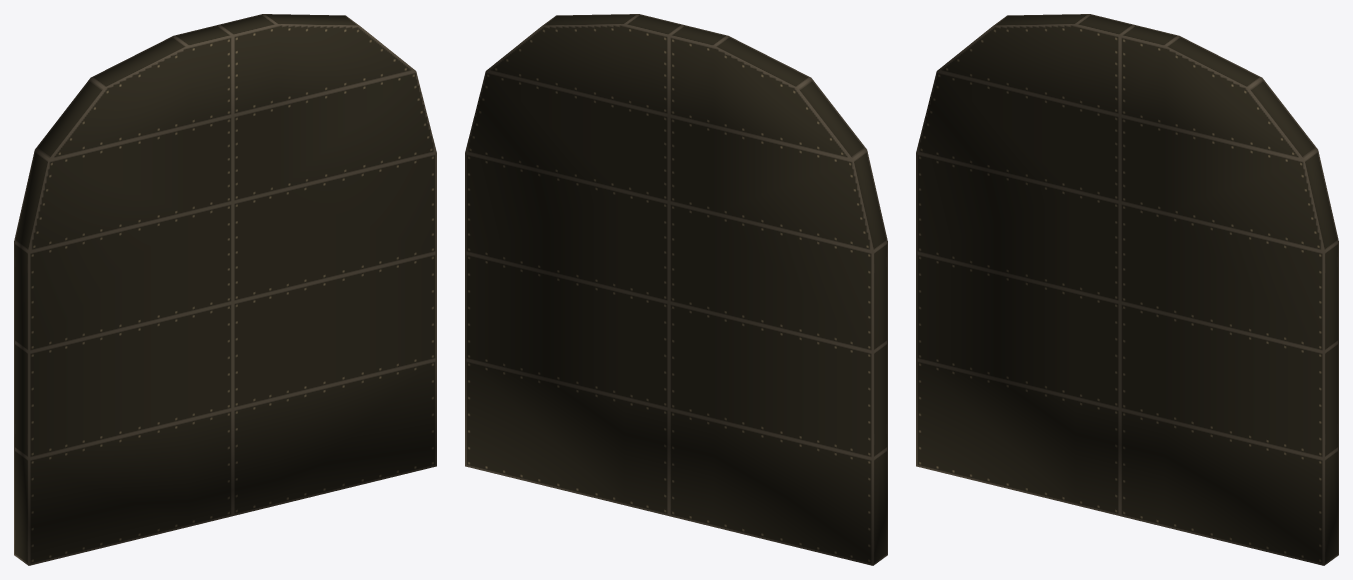
Rendered from MetalDoorNormal.fbx.
3 renders of one model, left to right at view 1: azimuth 30°, elevation 25°; view 2: azimuth 150°, elevation 25°; view 3: azimuth 330°, elevation 25°, orthographic.
Visible parts, largest first — view 1: Metal Door; view 2: Metal Door; view 3: Metal Door.
Boxes of the visible parts, box(x1,y1,x2,y2) form: Metal Door: box(14, 14, 436, 565); Metal Door: box(465, 14, 887, 565); Metal Door: box(916, 14, 1338, 565).
Bounding box in the file's own units: 800 × 900 × 50.
